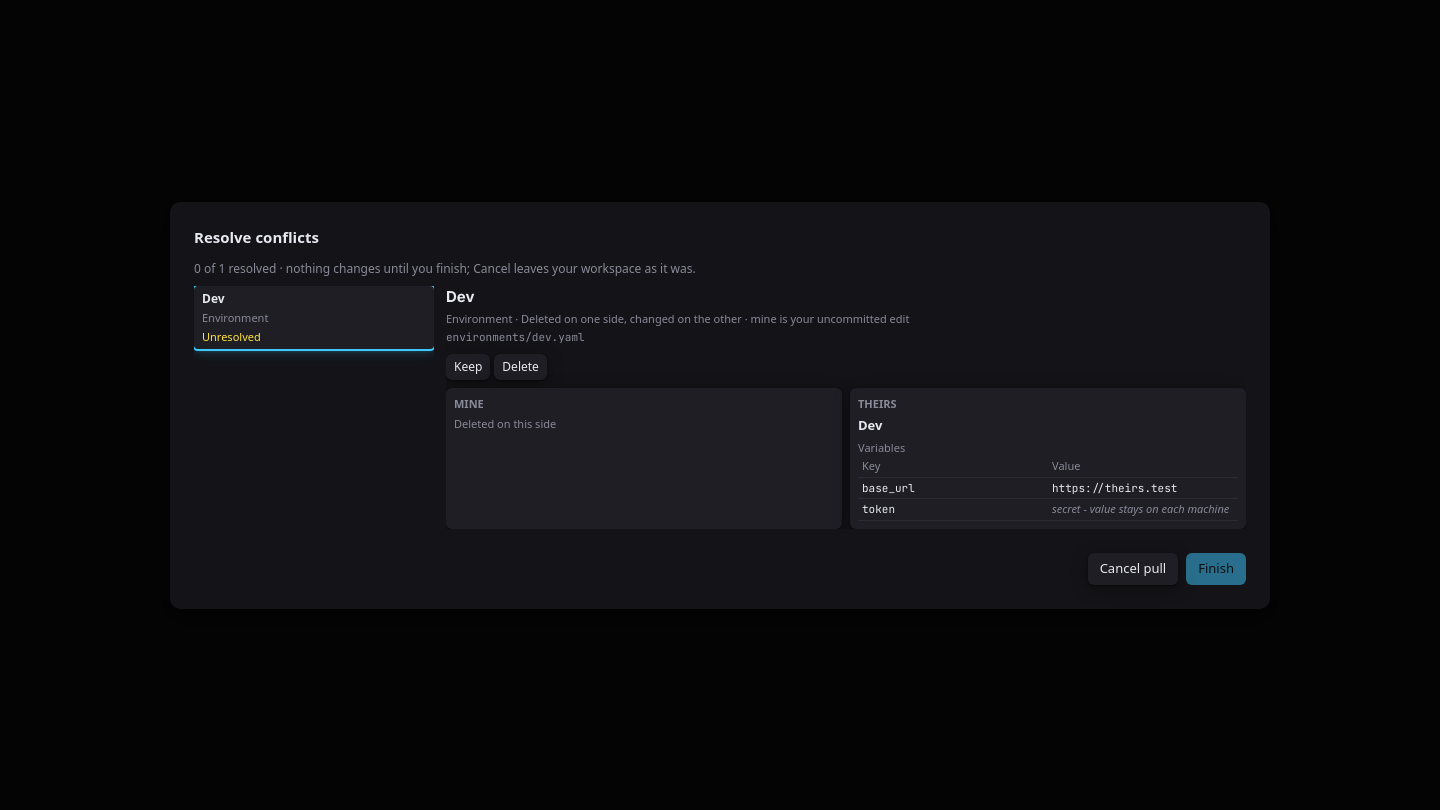
Test: ConflictView › shows deletions and environments without secret values, and Keep or Delete
Expected: the text "Deleted on this side" is shown, x1=454 y1=416 x2=556 y2=431
Expected: the text "https://theirs.test" is shown, x1=1048 y1=477 x2=1238 y2=498
Click the button "Delete": x=521, y=366 x1=494 y1=354 x2=547 y2=380
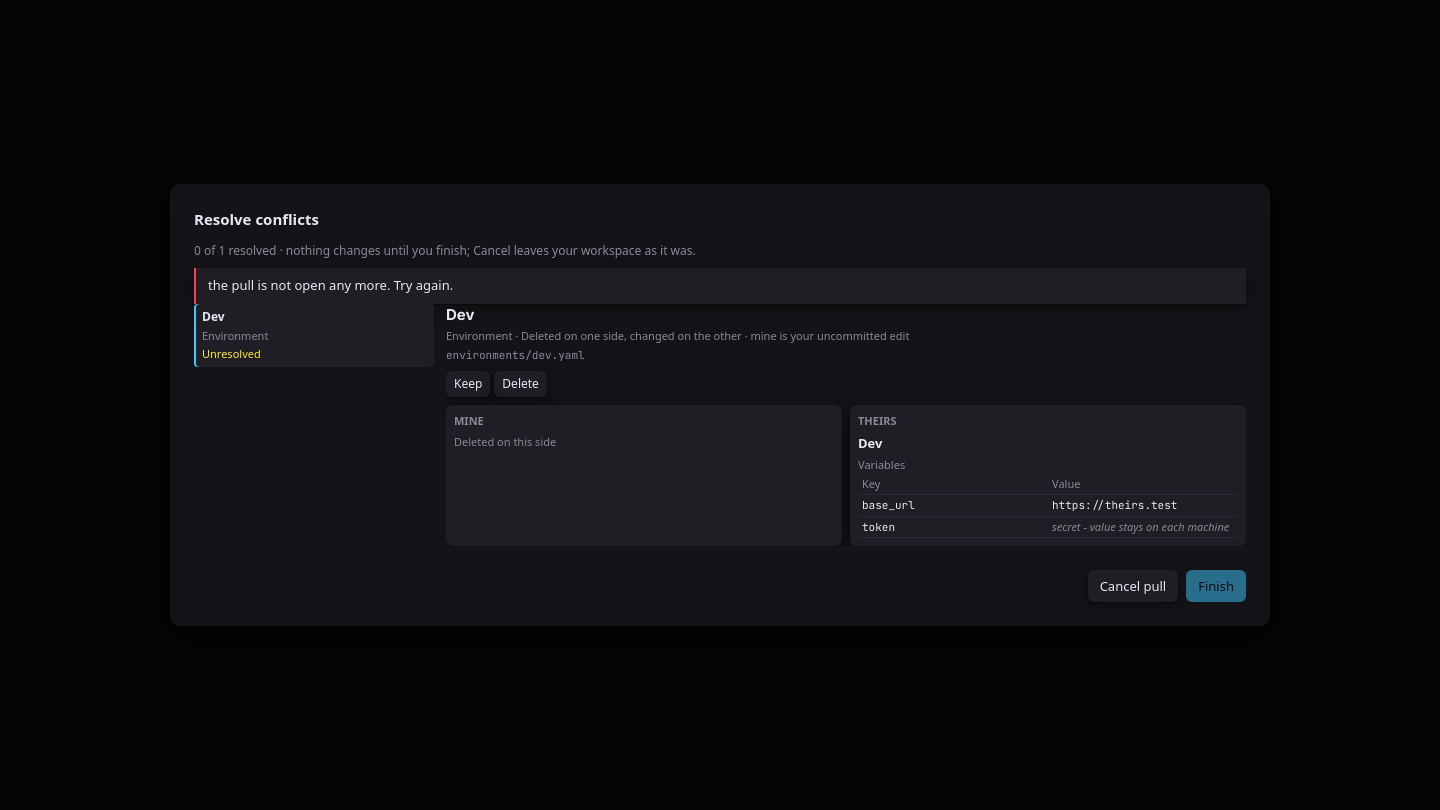
Now the text "the pull is not open any more. Try again." is shown, box x1=208 y1=276 x2=453 y2=294
